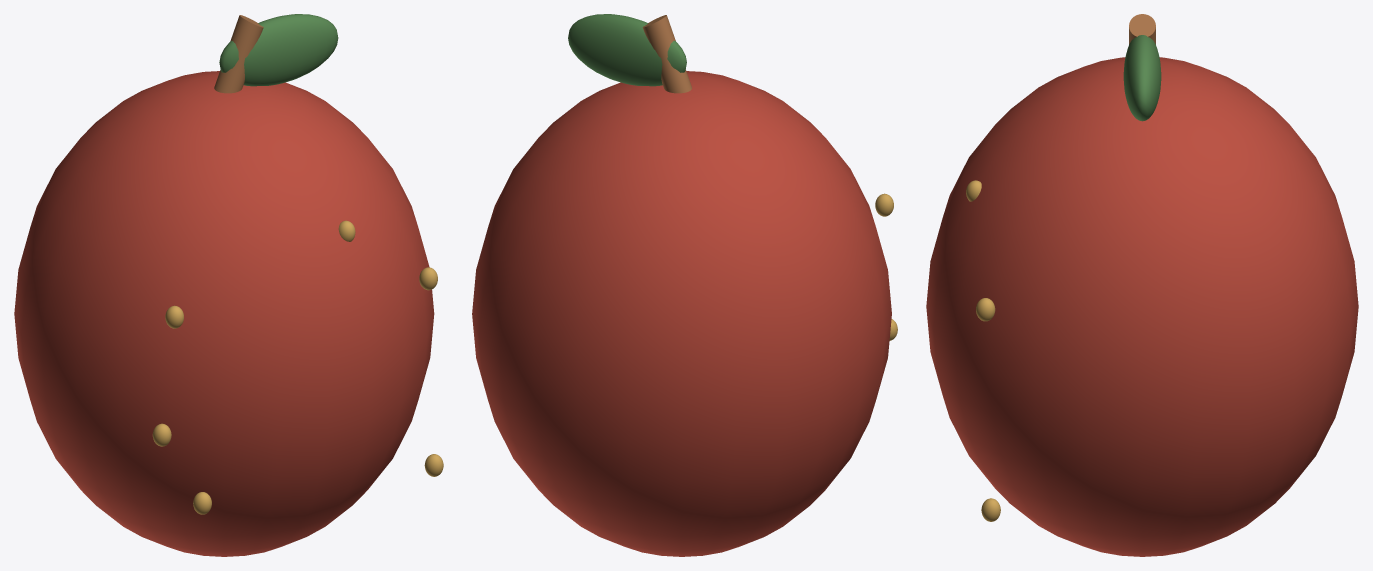
The model's file is wp-fraise.glb.
3 views of the same model, side by side, from view 1: azimuth 30°, elevation 25°; view 2: azimuth 150°, elevation 25°; view 3: azimuth 270°, elevation 25° (orthographic). The views are drawn at different scales.
Parts seen in each view (by area): view 1: wp-fraise; view 2: wp-fraise; view 3: wp-fraise.
Boxes of the visible parts, x1=… form: wp-fraise: x1=14, y1=14, x2=443, y2=556; wp-fraise: x1=472, y1=14, x2=897, y2=556; wp-fraise: x1=926, y1=14, x2=1358, y2=556.
Bounding box in the file's own units: 0.055 × 0.075 × 0.055.
